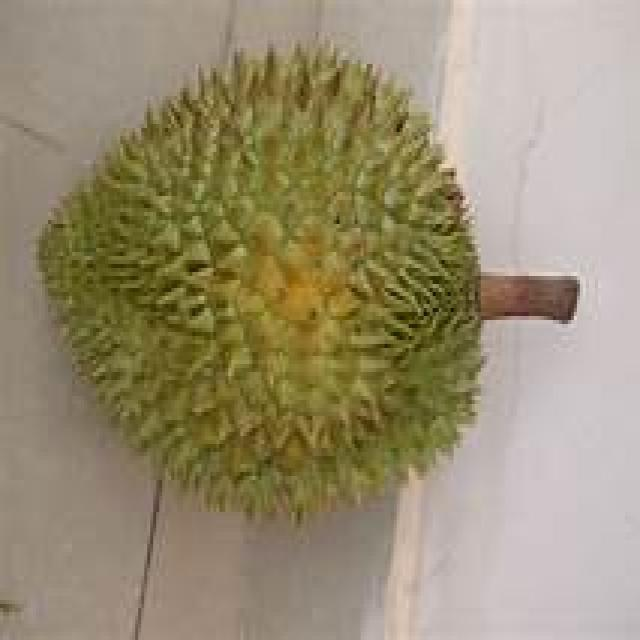immature: (35, 36, 487, 520)
